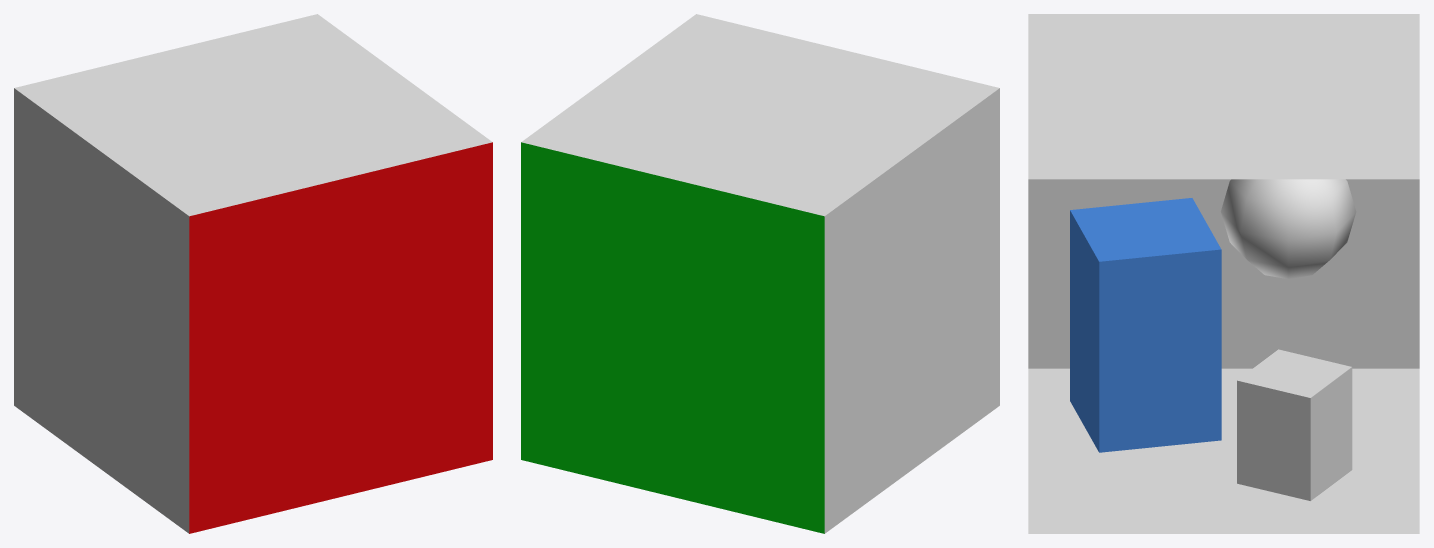
The model's file is gitestlq.gltf.
3 renders of one model, left to right at view 1: azimuth 30°, elevation 25°; view 2: azimuth 150°, elevation 25°; view 3: azimuth 270°, elevation 25°, orthographic. The views are drawn at different scales.
Parts seen in each view (by area): view 1: Cube; view 2: Cube; view 3: Cube, Cube.001, Cube.002, Sphere.
Part boxes in pixels (x1,y1,x2,y2): Cube: [14, 14, 492, 533]; Cube: [521, 14, 999, 533]; Cube: [1028, 14, 1419, 533]; Cube.001: [1070, 198, 1221, 452]; Cube.002: [1237, 349, 1352, 500]; Sphere: [1220, 179, 1356, 279].
Size of the model in its own units: 2 by 2 by 2.
